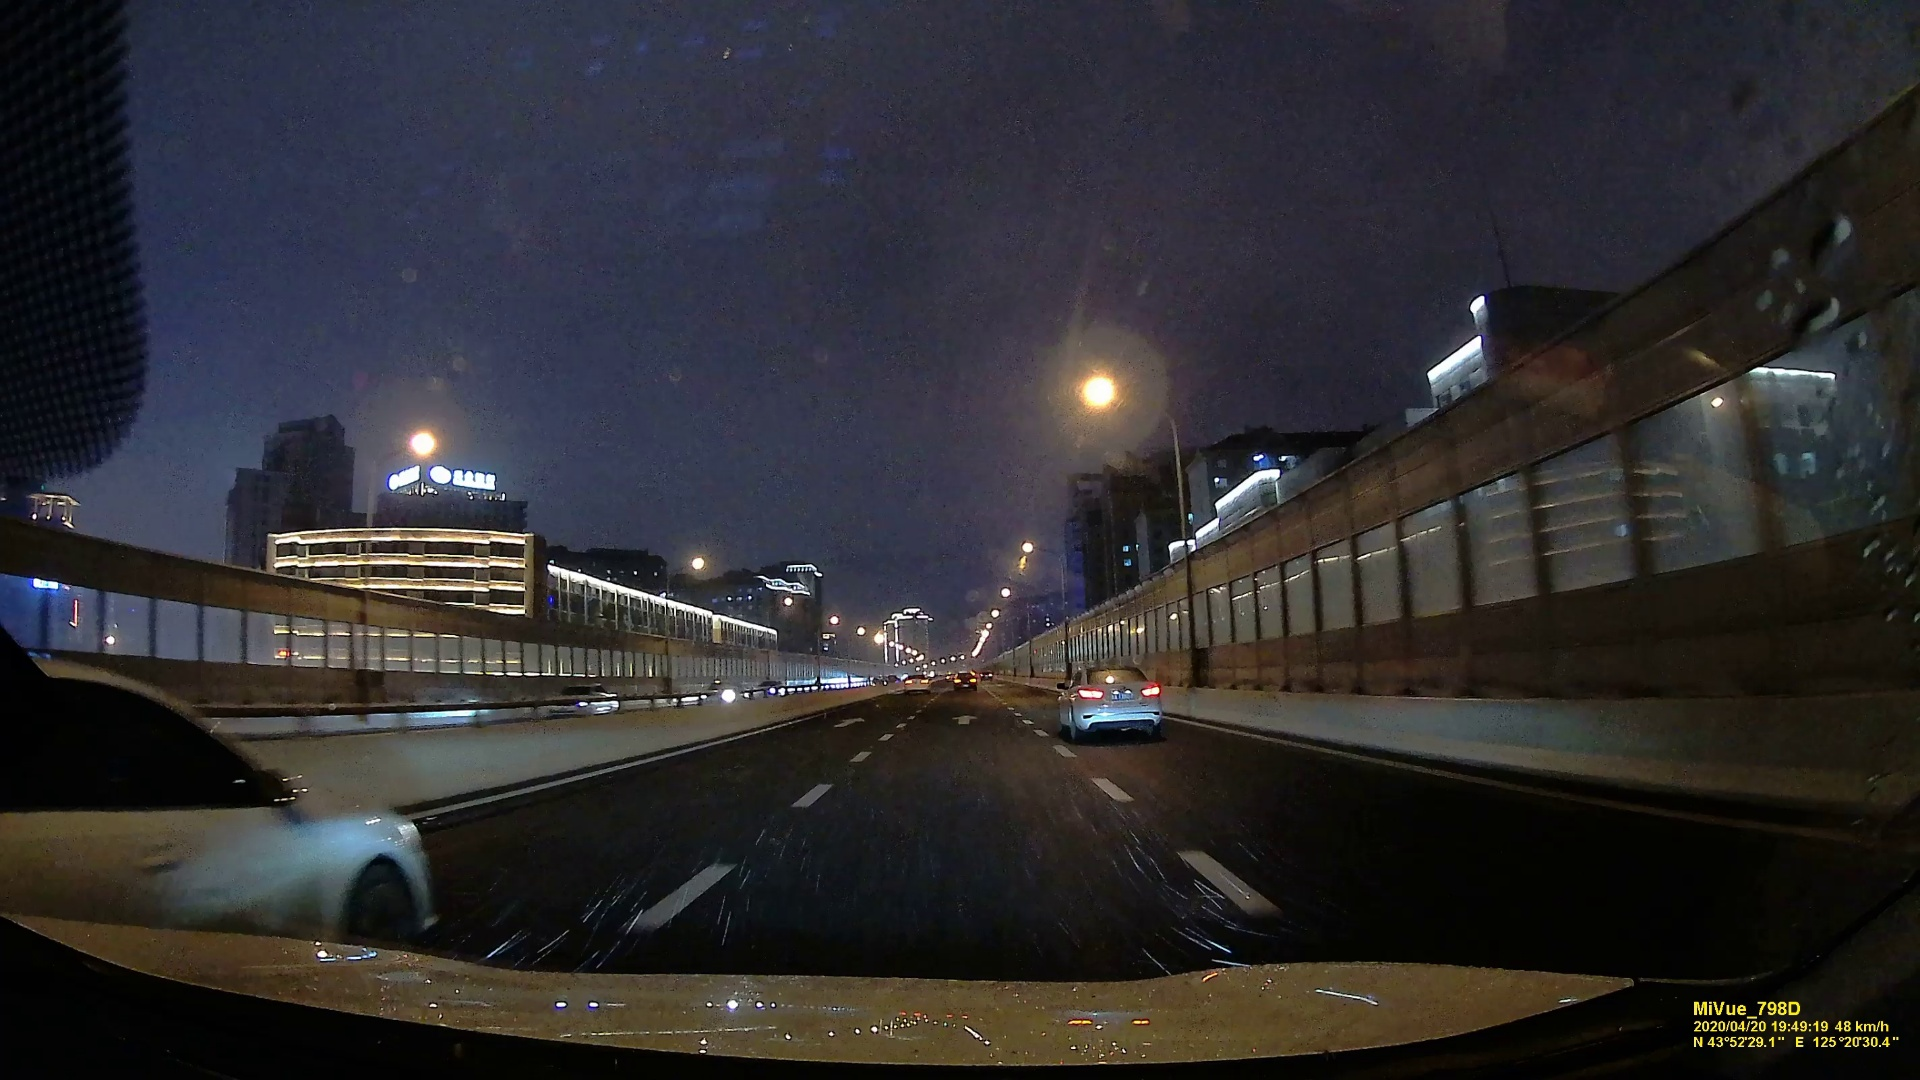vehicle: (1, 655, 425, 944), (1052, 662, 1166, 738), (545, 682, 618, 716), (952, 670, 977, 691), (905, 673, 930, 694)
